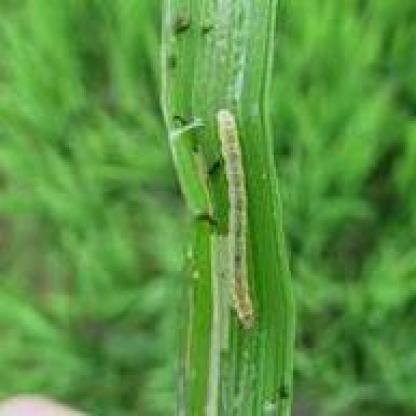leaf-folder: (204, 100, 274, 345)
